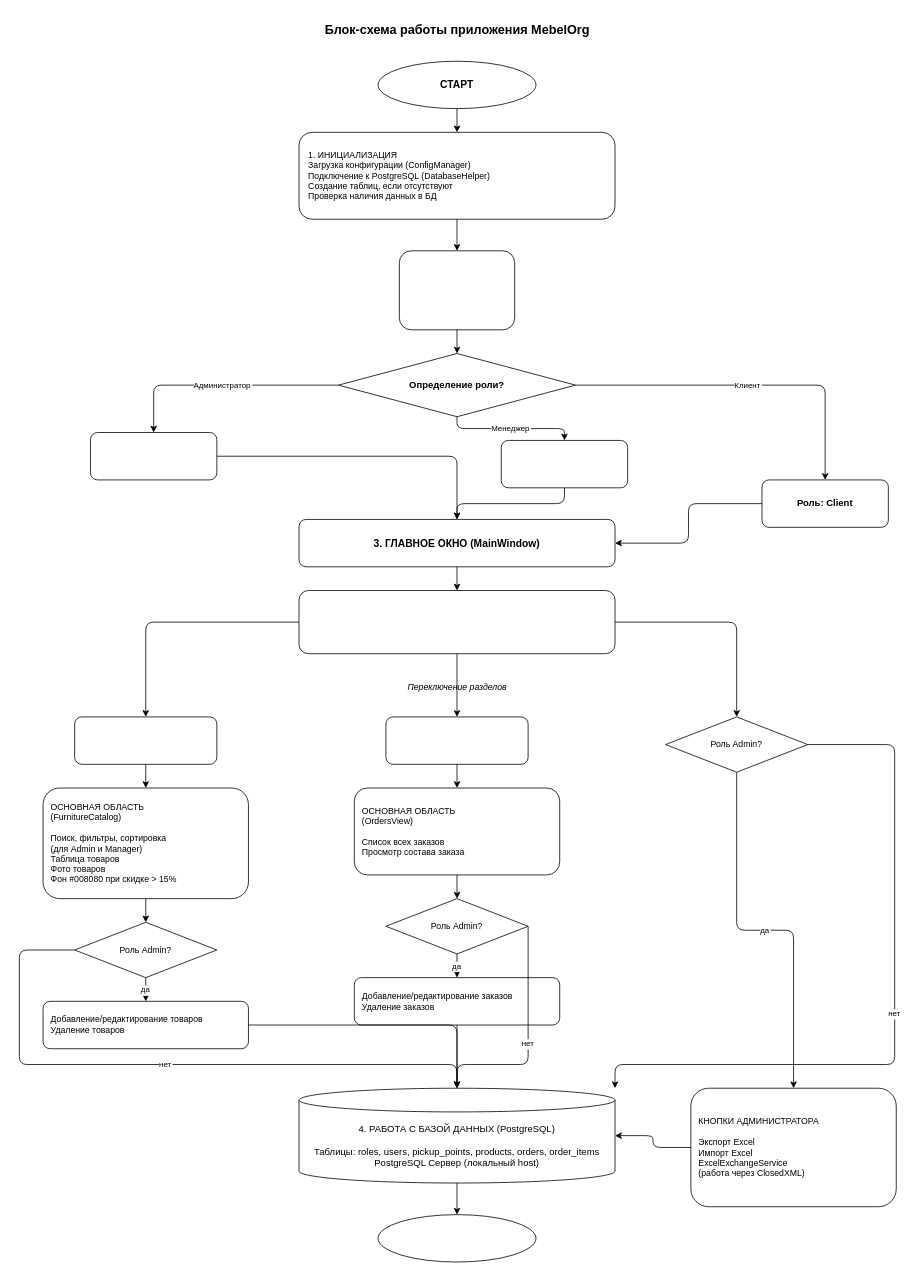
Image size: 916x1276. Some labels were removed from this diagram. The shapes that lost their labels are listed below. From the top down, each one's box as (x1, y1, x2, y2) in pixels, then its label:
(399, 250, 515, 330): 2. АВТОРИЗАЦИЯ (AuthWindow)
(90, 432, 217, 480): Роль: Admin
(500, 440, 628, 488): Роль: Manager
(298, 590, 615, 654): ВЕРХНЯЯ ПАНЕЛЬ ООО «МебельОрг»
(74, 716, 217, 764): Нажата кнопка ТОВАРЫ
(385, 716, 528, 764): Нажата кнопка ЗАКАЗЫ
(377, 1214, 536, 1262): КОНЕЦ
